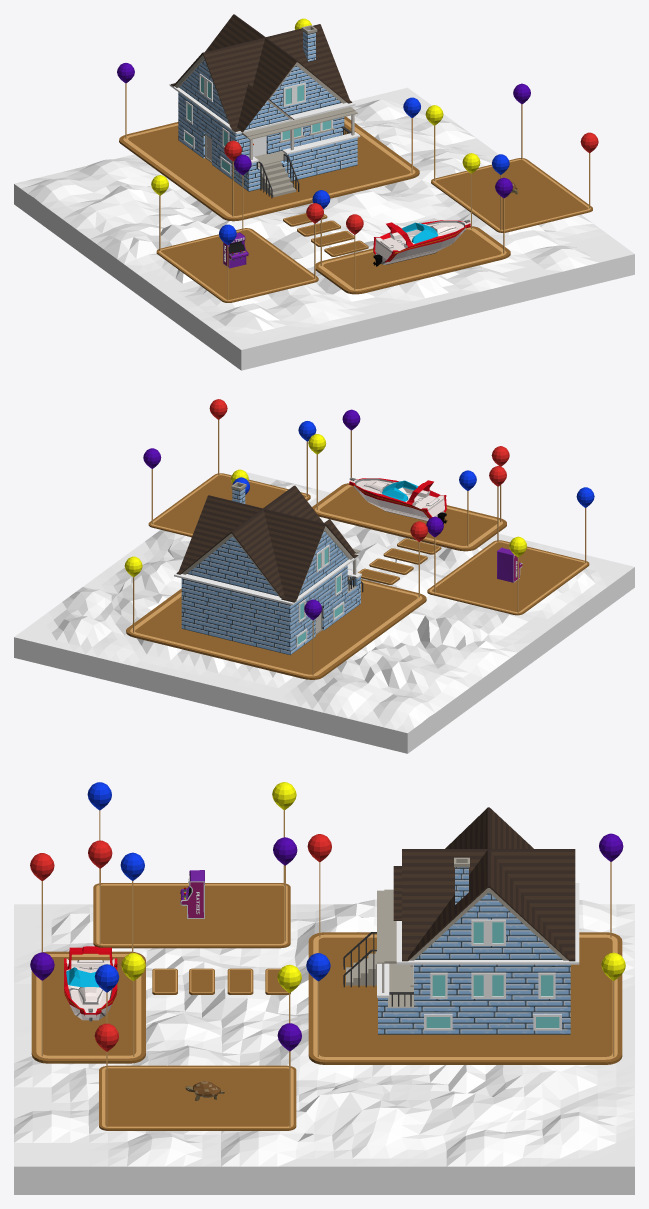
3 renders of one model, top to bottom at view 1: azimuth 30°, elevation 25°; view 2: azimuth 150°, elevation 25°; view 3: azimuth 270°, elevation 25°, orthographic. The views are drawn at different scales.
Visible parts, largest first — view 1: Cube.013, Cube.547, VEHICLES_BOAT, OBJRANDOM_ARCADE; view 2: Cube.013, Cube.547, VEHICLES_BOAT, OBJRANDOM_ARCADE; view 3: Cube.013, Cube.547, VEHICLES_BOAT, OBJRANDOM_ARCADE.
Boxes of the visible parts, <box> form: Cube.013: <box>14,18,634,370</box>; Cube.547: <box>169,14,360,198</box>; VEHICLES_BOAT: <box>373,219,470,266</box>; OBJRANDOM_ARCADE: <box>223,232,248,268</box>; Cube.013: <box>14,399,634,753</box>; Cube.547: <box>174,482,363,655</box>; VEHICLES_BOAT: <box>349,477,447,523</box>; OBJRANDOM_ARCADE: <box>497,547,522,582</box>; Cube.013: <box>14,782,634,1194</box>; Cube.547: <box>343,807,579,1034</box>; VEHICLES_BOAT: <box>64,946,117,1021</box>; OBJRANDOM_ARCADE: <box>180,870,204,918</box>.
Size of the model in its own units: 4000 by 1696 by 4000.
37 materials, 2 textured.
